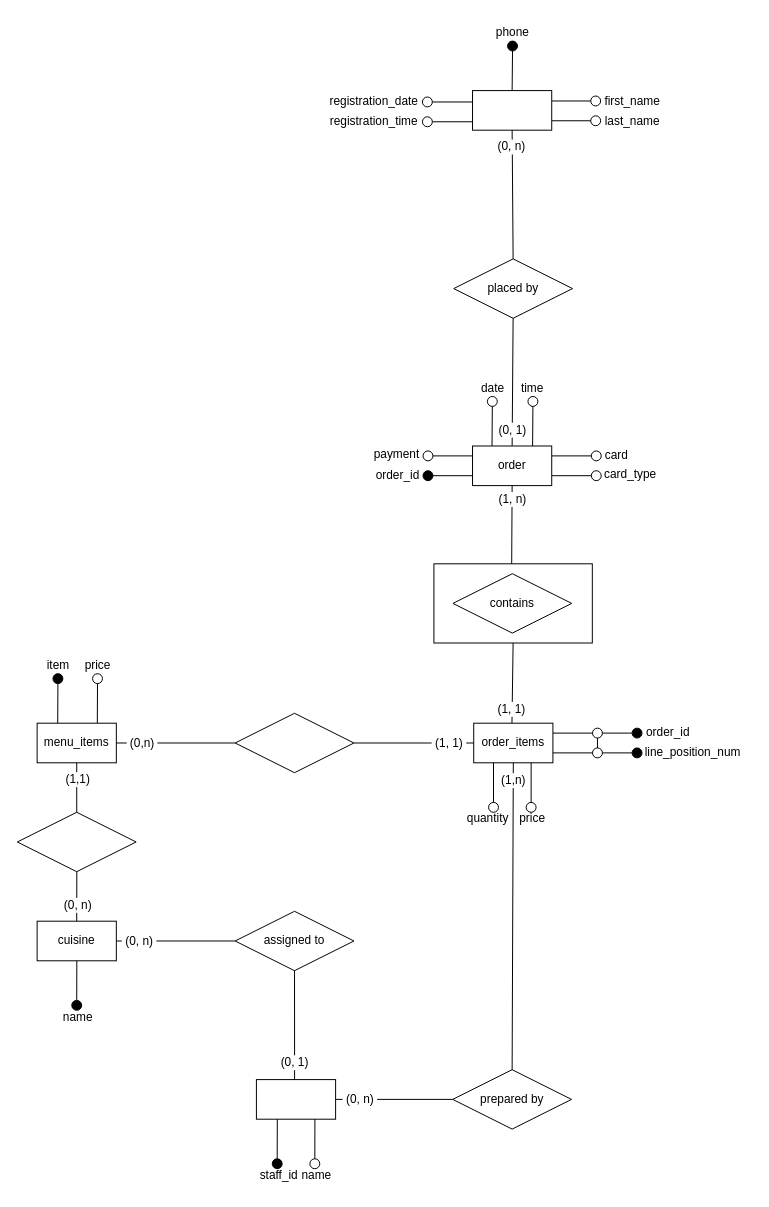
The diagram is 769 pixels wide and 1207 high, and some of its shapes have lost their labels. Each missing label, with the centre of its shape:
"belongs to" goes at [76,841].
"For" goes at [294,742].
"member" goes at [512,110].
"staff" goes at [295,1099].
